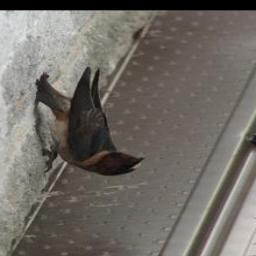Swallow: (30, 67, 144, 177)
